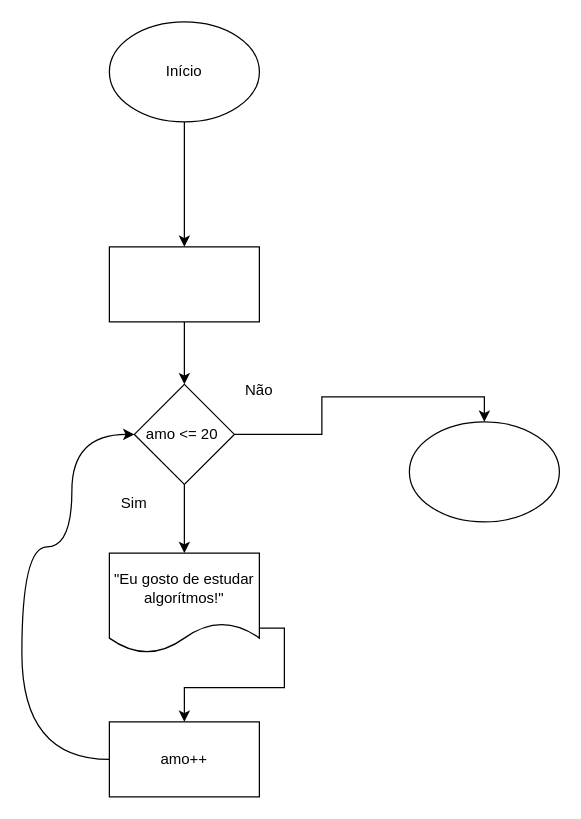
Image size: 581x819. Some labels were removed from this diagram. The shapes that lost their labels are listed below. From the top down, each one's centre as x and y in pixels, then its label:
the point at 183,284: amo = 1
the point at 483,471: Fim
